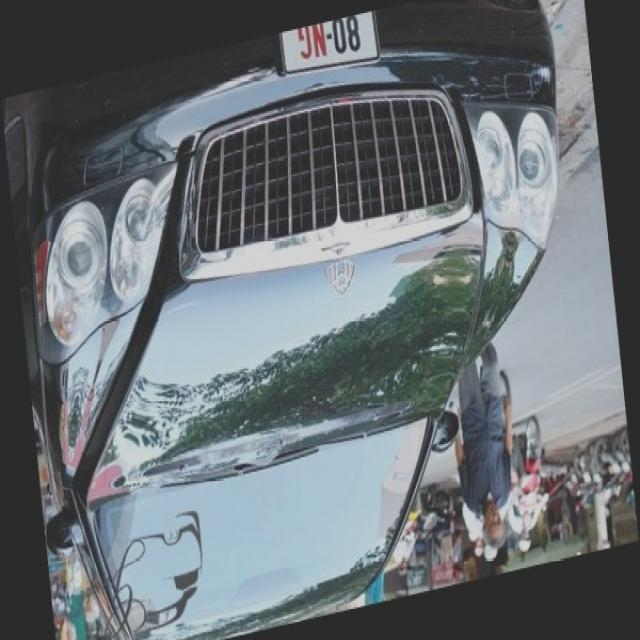bien_ngoai_giao: (267, 14, 383, 72)
